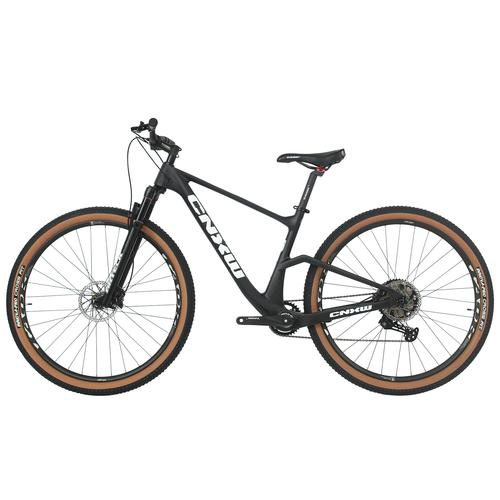单车: (4, 112, 499, 415)
